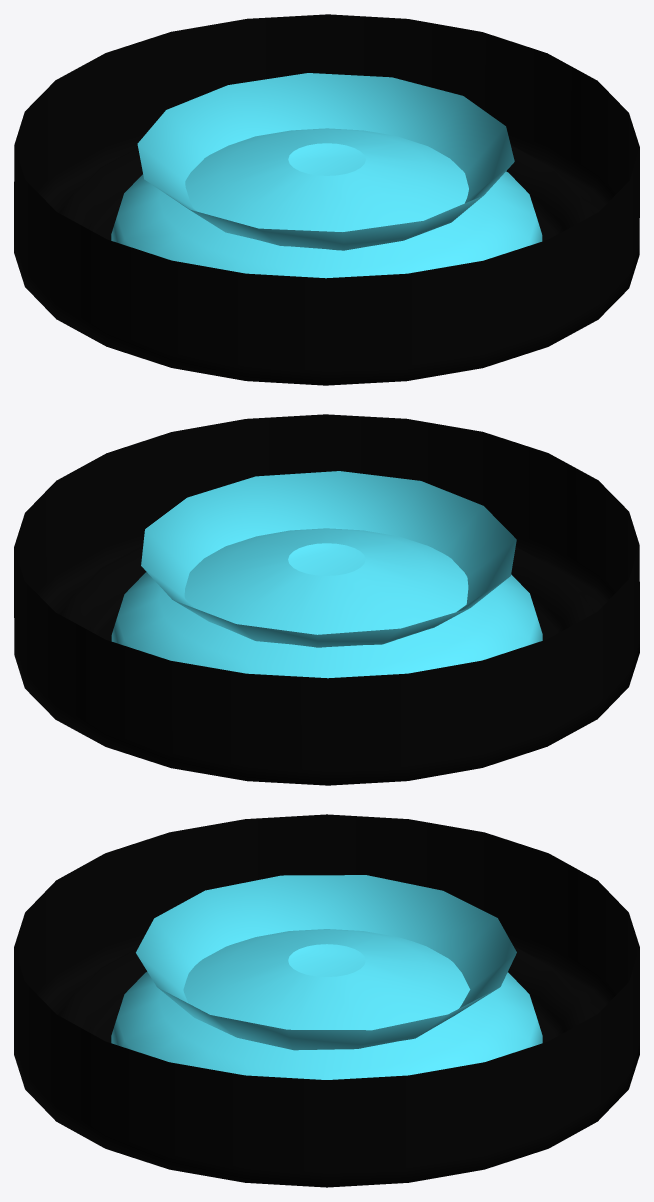
Rendered from SM_RoofLight_011.FBX.
3 renders of one model, top to bottom at view 1: azimuth 30°, elevation 25°; view 2: azimuth 150°, elevation 25°; view 3: azimuth 270°, elevation 25°, orthographic.
Parts seen in each view (by area): view 1: SM_RoofLight_011; view 2: SM_RoofLight_011; view 3: SM_RoofLight_011.
Boxes of the visible parts, x1=… form: SM_RoofLight_011: x1=14, y1=14, x2=639, y2=385; SM_RoofLight_011: x1=14, y1=414, x2=639, y2=785; SM_RoofLight_011: x1=14, y1=814, x2=639, y2=1187.
Size of the model in its own units: 23.22 by 23.21 by 4.55.
